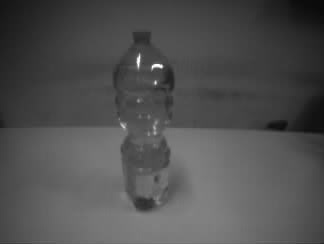Bottle: (112, 29, 179, 213)
